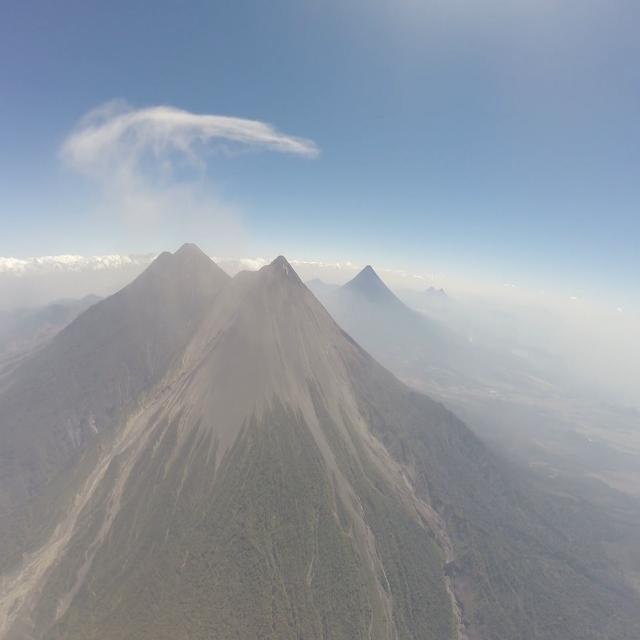Summit: (259, 253, 297, 283)
